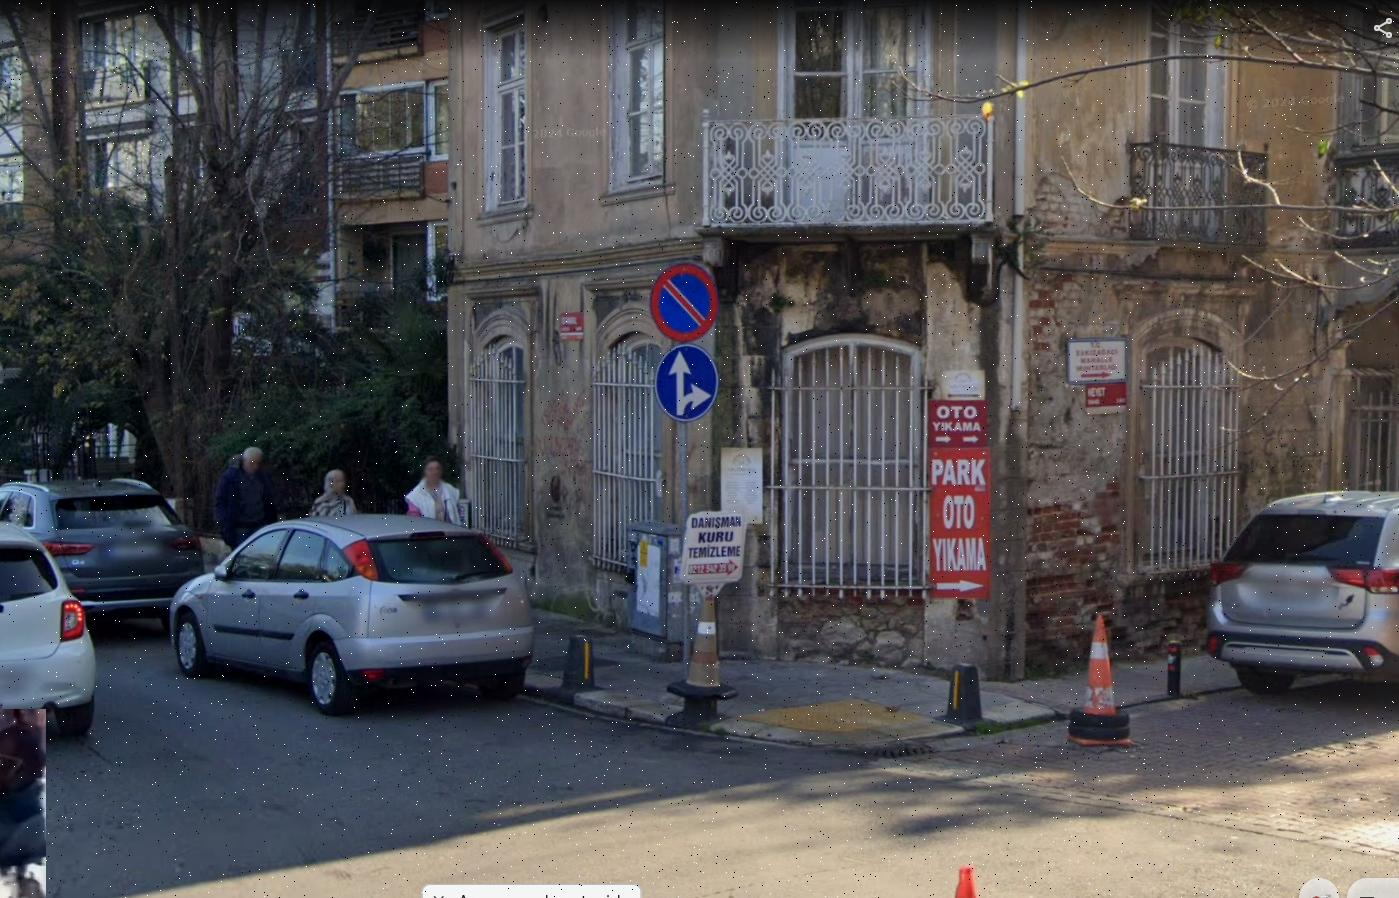nopark: (653, 266, 721, 344)
